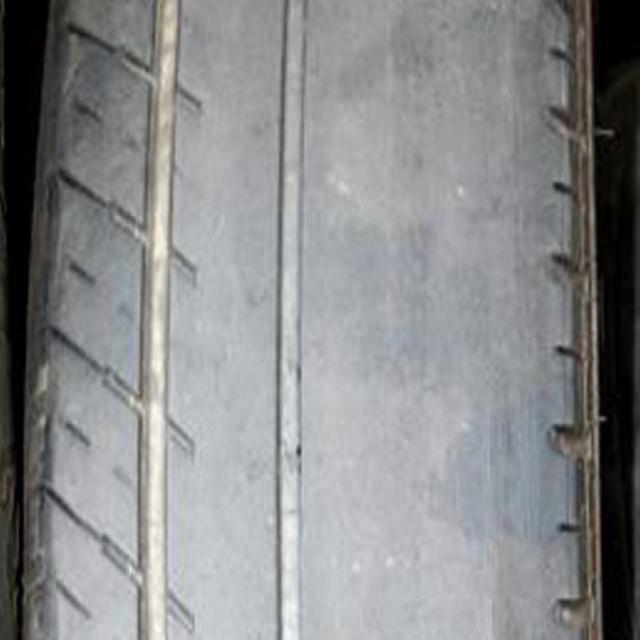Flat spots: (322, 39, 574, 620)
